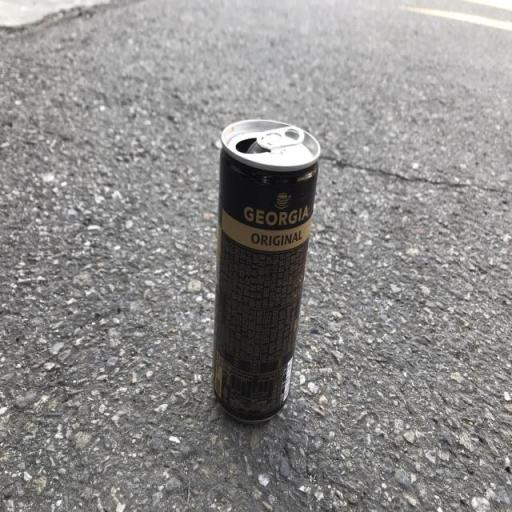metal: (160, 89, 364, 447)
